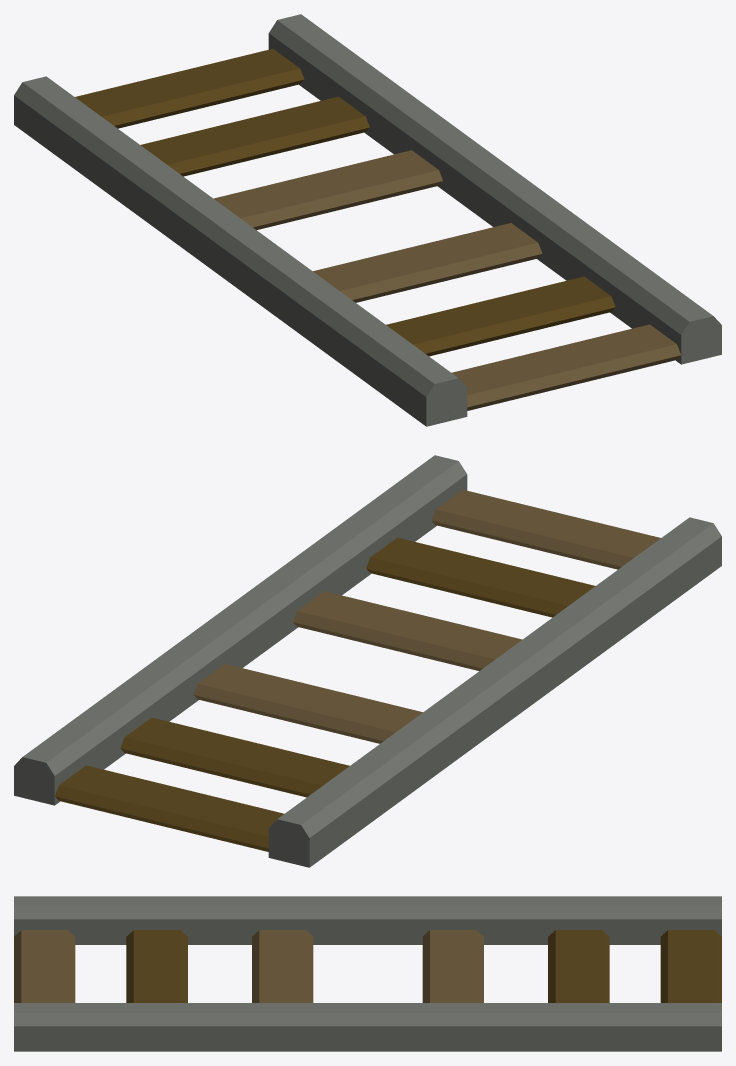
File: Rails.fbx
3 renders of one model, top to bottom at view 1: azimuth 30°, elevation 25°; view 2: azimuth 150°, elevation 25°; view 3: azimuth 270°, elevation 25°, orthographic. The views are drawn at different scales.
Visible parts, largest first — view 1: Cube.002; view 2: Cube.002; view 3: Cube.002.
Boxes of the visible parts, x1,y1,x2,y2 form: Cube.002: (14, 14, 721, 426); Cube.002: (14, 455, 721, 867); Cube.002: (14, 896, 721, 1051).
Size of the model in its own units: 187 by 24.61 by 452.
